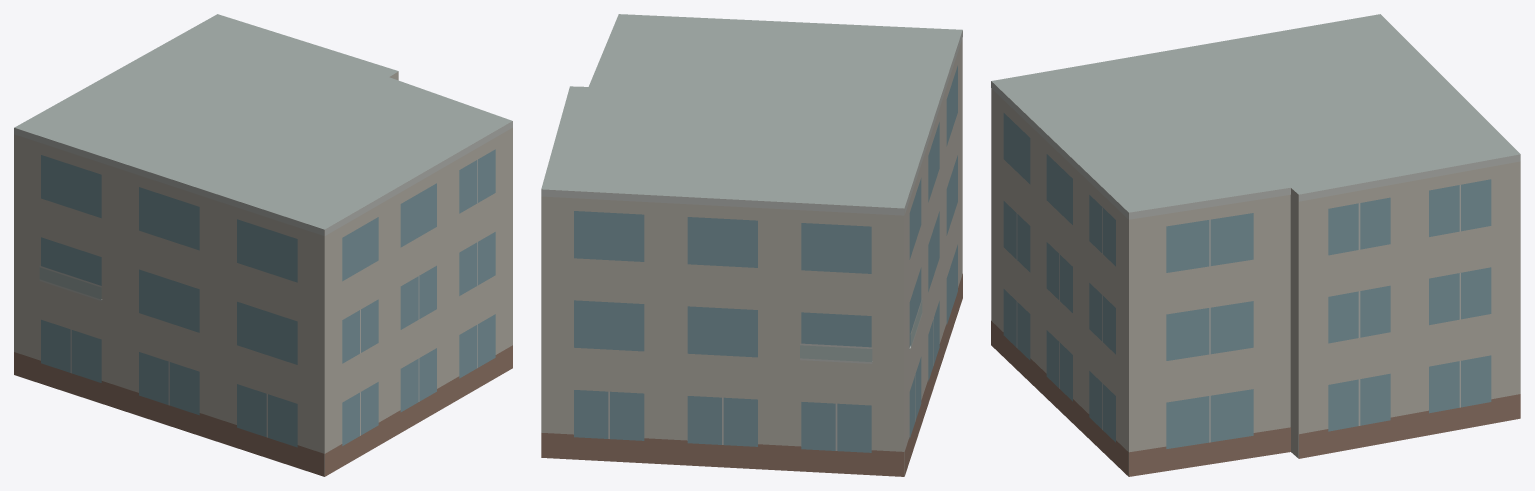
Rendered from survey-upis-32750236.glb.
3 views of the same model, side by side, from view 1: azimuth 30°, elevation 25°; view 2: azimuth 150°, elevation 25°; view 3: azimuth 270°, elevation 25° (orthographic). The views are drawn at different scales.
Visible parts, largest first — view 1: survey-upis-32750236.tmp; view 2: survey-upis-32750236.tmp; view 3: survey-upis-32750236.tmp.
Boxes of the visible parts, left/top/right/bottom form: survey-upis-32750236.tmp: left=14, top=14, right=512, bottom=476; survey-upis-32750236.tmp: left=541, top=14, right=962, bottom=476; survey-upis-32750236.tmp: left=991, top=14, right=1520, bottom=476.
Bounding box in the file's own units: 14.77 × 9.15 × 16.63.
